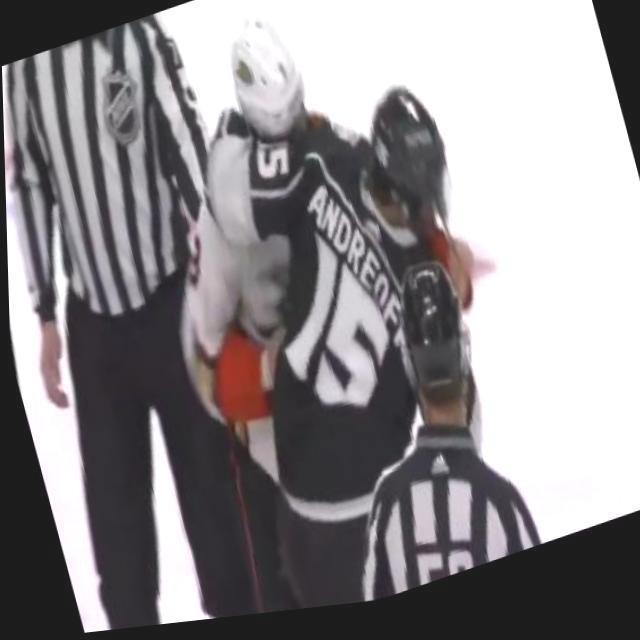fight: (83, 0, 547, 572)
